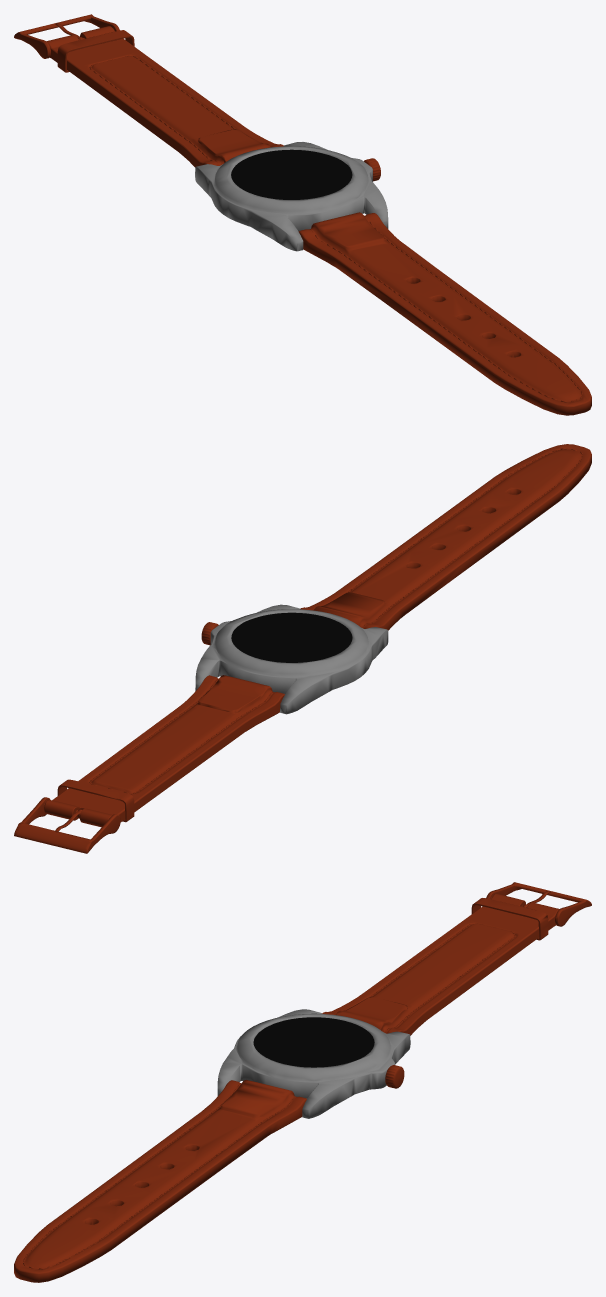
The model's file is classic_watch.fbx.
3 renders of one model, top to bottom at view 1: azimuth 30°, elevation 25°; view 2: azimuth 150°, elevation 25°; view 3: azimuth 330°, elevation 25°, orthographic.
Visible parts, largest first — view 1: classic watch (×6); view 2: classic watch (×6); view 3: classic watch (×6).
Part boxes in pixels (<box>): classic watch (×6): <box>14,14,591,415</box>; classic watch (×6): <box>14,444,591,853</box>; classic watch (×6): <box>14,882,591,1282</box>.
Bounding box in the file's own units: 155 × 32.68 × 919.
